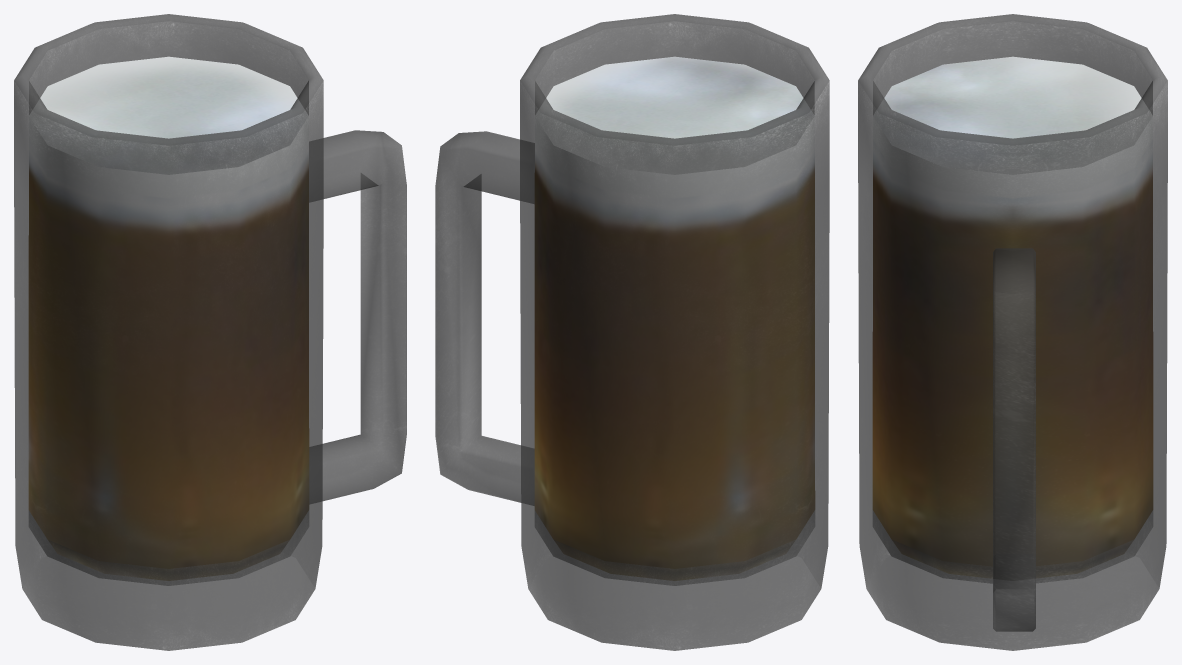
The model's file is sake05b.fbx.
The picture shows the model from 3 angles, left to right: view 1: azimuth 30°, elevation 25°; view 2: azimuth 150°, elevation 25°; view 3: azimuth 270°, elevation 25°; orthographic projection.
Visible parts, largest first — view 1: sake05b; view 2: sake05b; view 3: sake05b.
Part boxes in pixels (left/top/right/bottom): sake05b: left=14, top=14, right=406, bottom=650; sake05b: left=435, top=14, right=829, bottom=650; sake05b: left=858, top=14, right=1167, bottom=650.
Size of the model in its own units: 15.42 by 20.78 by 11.37.
